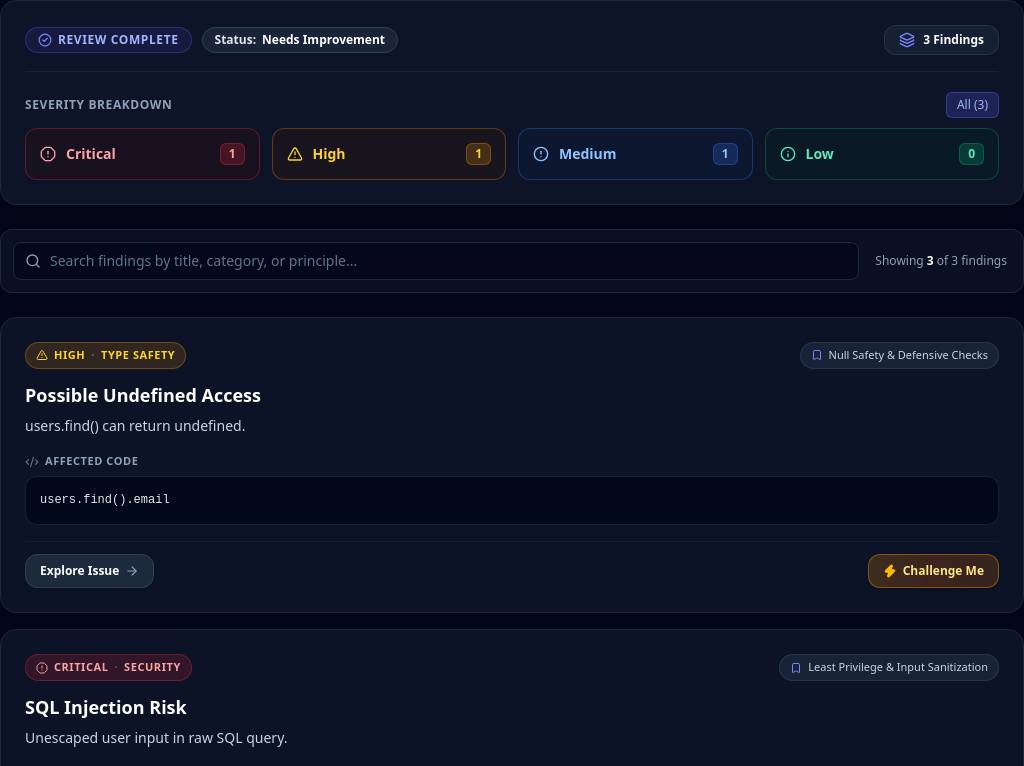
Test case: FindingsList component › filters findings when clicking severity breakdown in ReviewSummary
The width and height of the screenshot is (1024, 766).
# Click 'Critical' filter
Click the button "Critical 1" at point(142, 154), box [25,128,260,180]
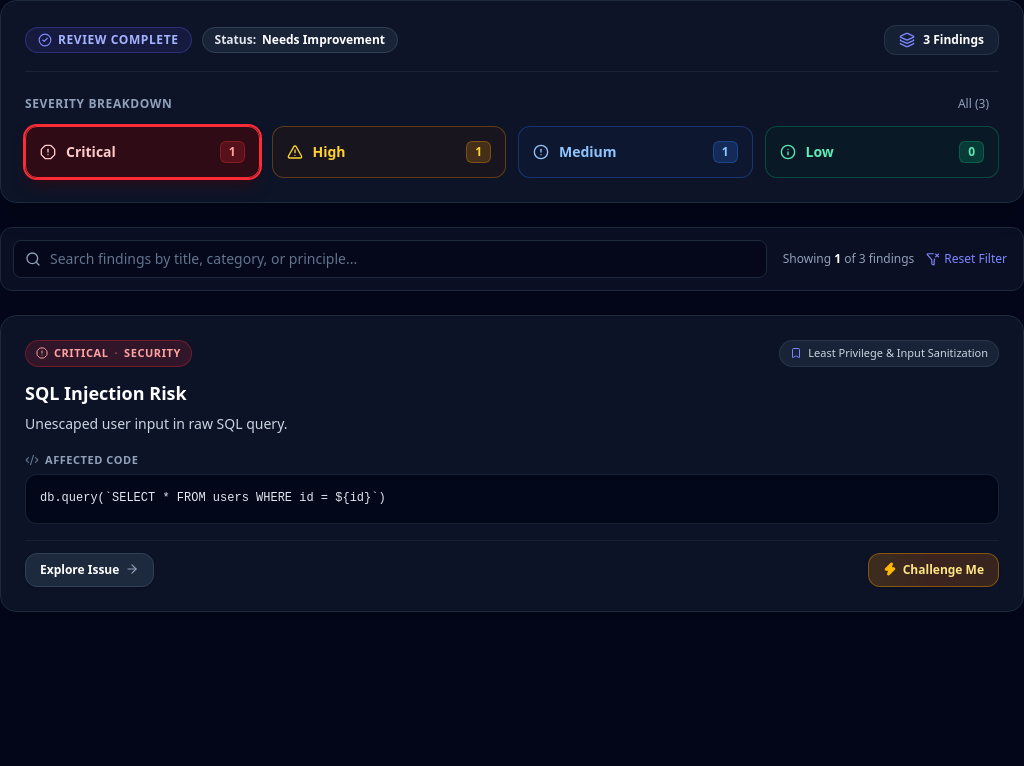
Expected: the heading "SQL Injection Risk" is shown, [25,380,187,404]
Result: the heading "Possible Undefined Access" is gone
